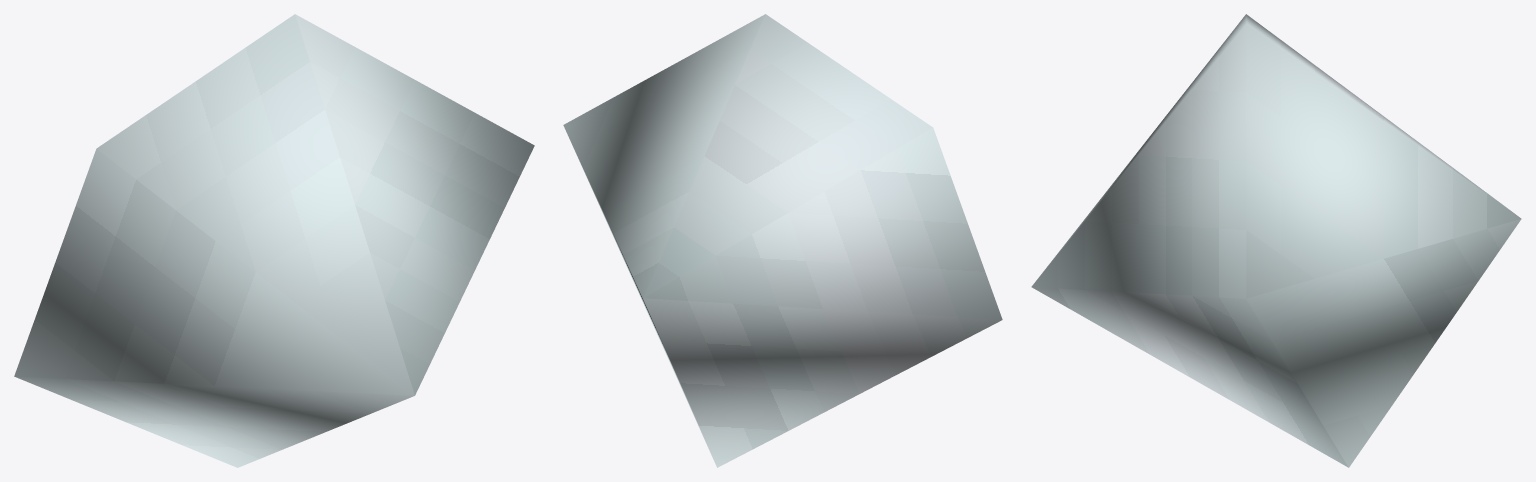
Rendered from Snow03.glb.
3 views of the same model, side by side, from view 1: azimuth 30°, elevation 25°; view 2: azimuth 150°, elevation 25°; view 3: azimuth 270°, elevation 25° (orthographic). The views are drawn at different scales.
Parts seen in each view (by area): view 1: model_Snow03; view 2: model_Snow03; view 3: model_Snow03.
Boxes of the visible parts, x1,y1,x2,y2 form: model_Snow03: [14, 14, 534, 467]; model_Snow03: [563, 14, 1002, 467]; model_Snow03: [1031, 14, 1521, 467].
Size of the model in its own units: 0.1258 by 0.1144 by 0.1145.
Materials: 1 (1 with a texture image).
